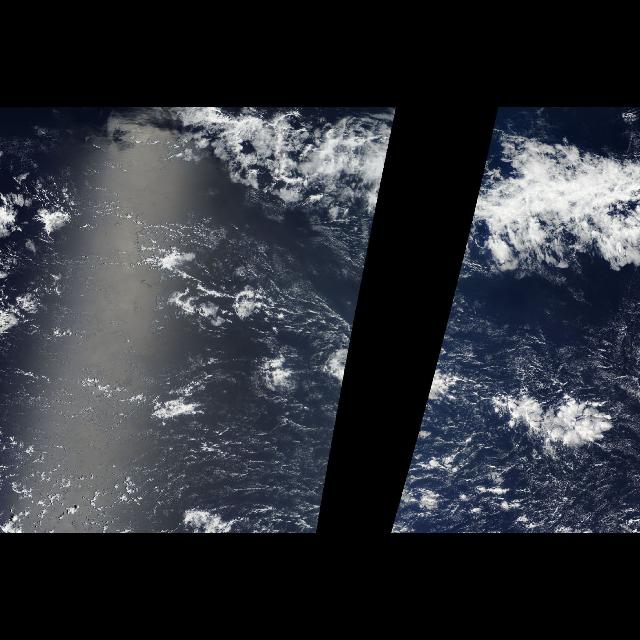Fish: (139, 108, 397, 296), (452, 108, 640, 296)
